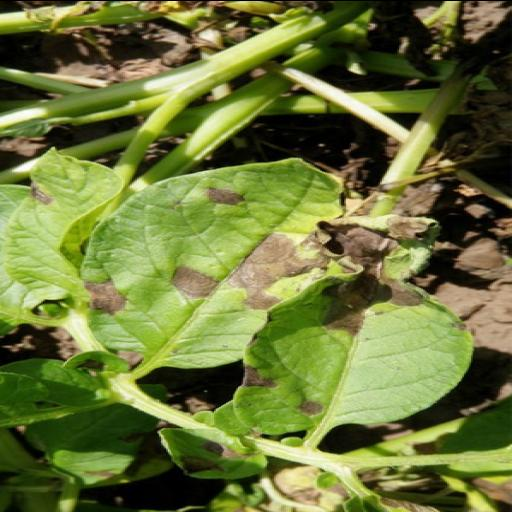Early Blight: (70, 156, 348, 370), (228, 252, 481, 440)
